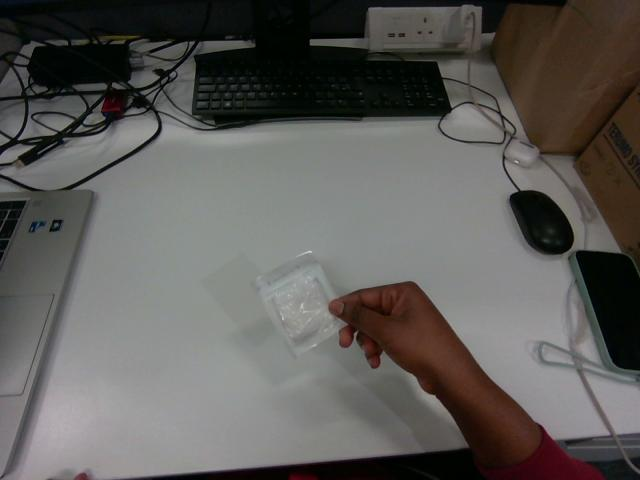gauze: (252, 252, 344, 355)
